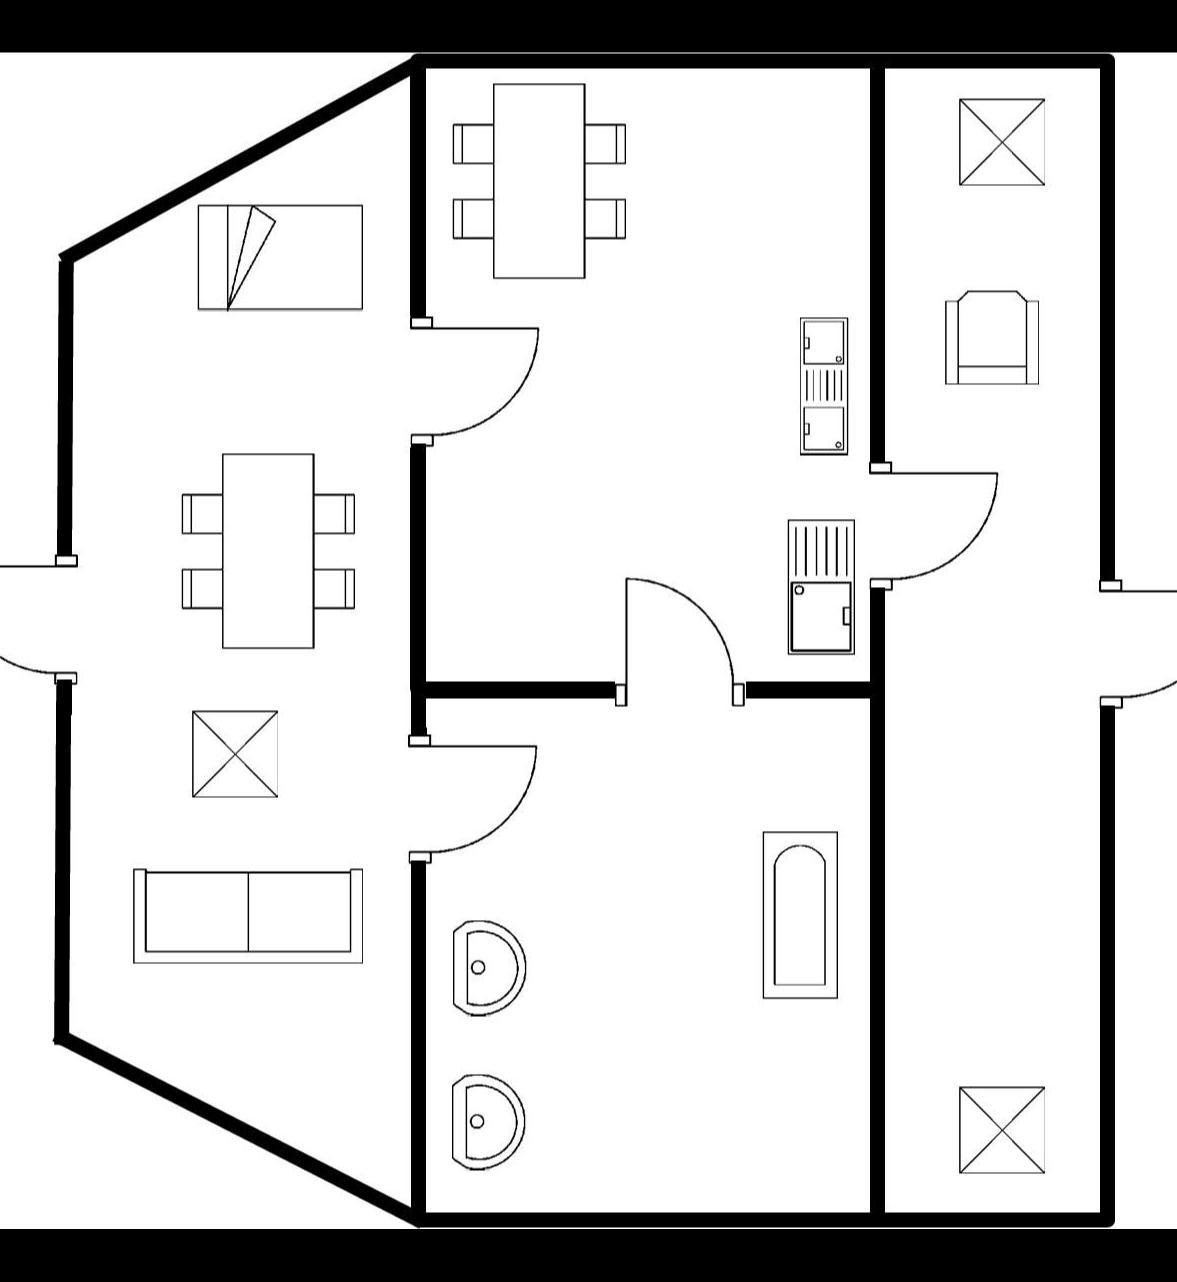sink: (792, 306, 859, 467)
